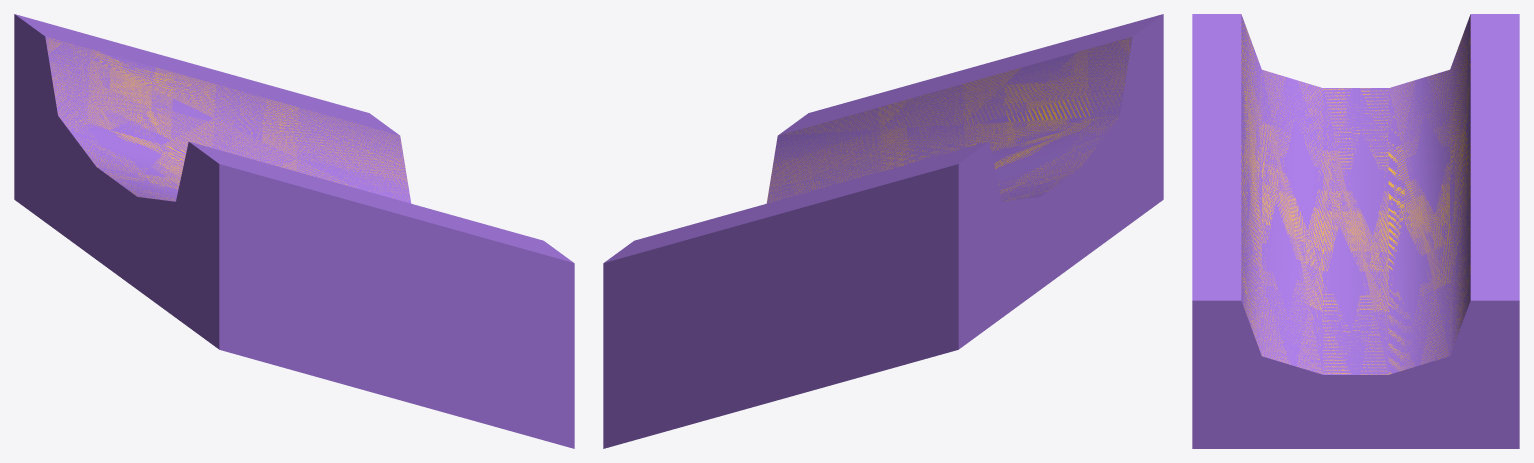
File: slant-b-col.glb
3 renders of one model, left to right at view 1: azimuth 30°, elevation 25°; view 2: azimuth 150°, elevation 25°; view 3: azimuth 270°, elevation 25°, orthographic. The views are drawn at different scales.
Parts seen in each view (by area): view 1: slant-b-col; view 2: slant-b-col; view 3: slant-b-col.
Boxes of the visible parts, x1,y1,x2,y2 form: slant-b-col: (14, 14, 574, 448); slant-b-col: (603, 14, 1163, 448); slant-b-col: (1192, 14, 1519, 448).
Size of the model in its own units: 1 by 1 by 1.
1 material, 1 textured.
